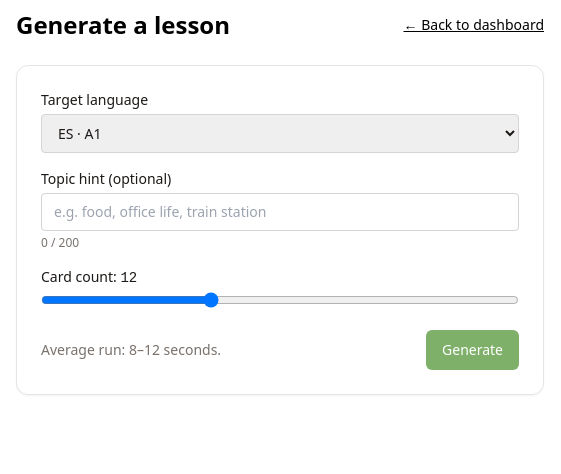
Test case: GenerateLessonPage › surfaces a friendly message on UPSTREAM_TIMEOUT
Check: the dropdown labelled "Target language" is shown, box top-left (41, 114), bottom-right (519, 153)
Click the button "Generate". click: (472, 350)
box: top-left (426, 330), bottom-right (519, 370)
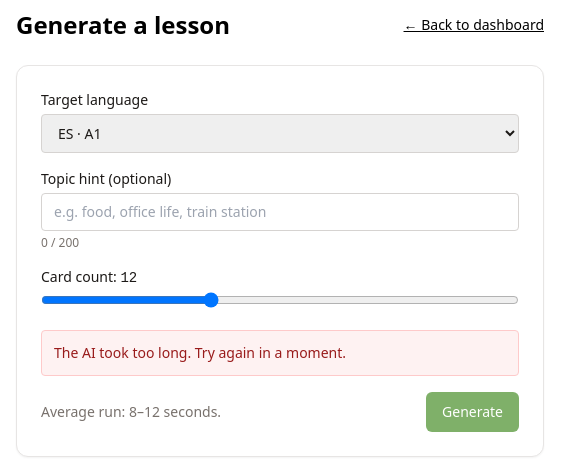
Check: the message shows "took too long", box top-left (54, 343), bottom-right (346, 362)
